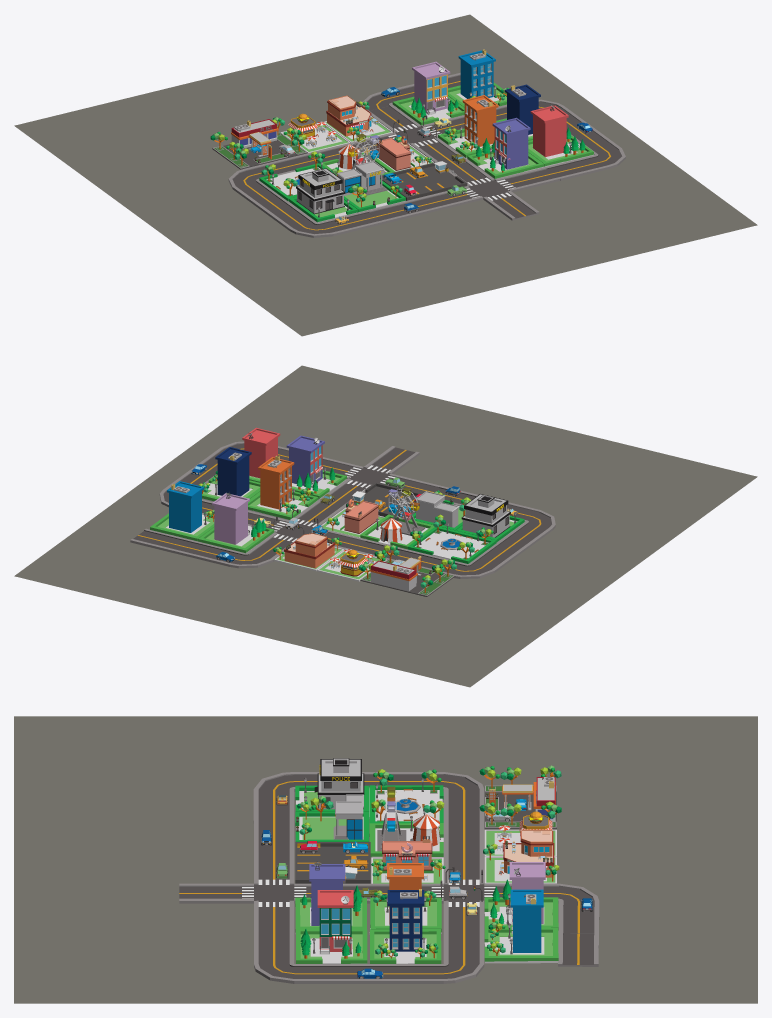
File: CityPackSyno.fbx
3 views of the same model, one above another, from view 1: azimuth 30°, elevation 25°; view 2: azimuth 150°, elevation 25°; view 3: azimuth 270°, elevation 25° (orthographic). The views are drawn at different scales.
Parts seen in each view (by area): view 1: Plane, Way(3).001, Fuel Station, Building(6), Building(3), Way(3), Building(5), Police, Bank, Building(2), Way(5).001, Building(1) (+12 smaller); view 2: Plane, Way(3).001, Fuel Station, Way(3), Building(2), Building(3), Building(1), Park, Building(6), Theme Park, Building(4), Police (+13 smaller); view 3: Plane, Way(3).001, Building(1), Way(3), Building(4), Building(5), Fuel Station, Way(5), Way(5).003, Bank, Park, Way(5).002 (+14 smaller).
Part boxes in pixels (x1,y1,x2,y2): Plane: (14,14,757,336); Way(3).001: (418,158,560,220); Fuel Station: (210,117,306,169); Building(6): (467,117,544,178); Building(3): (392,61,464,125); Way(3): (344,104,465,163); Building(5): (528,104,593,166); Police: (288,168,357,222); Bank: (336,161,405,212); Building(2): (438,95,498,158); Way(5).001: (261,201,383,237); Building(1): (448,49,508,107); Plane: (14,365,757,687); Way(3).001: (319,446,440,505); Fuel Station: (358,545,456,596); Way(3): (246,499,366,561); Building(2): (248,455,318,520); Building(3): (198,492,274,553); Building(1): (150,481,214,541); Park: (408,514,496,563); Building(6): (286,435,346,499); Theme Park: (360,487,434,549); Building(4): (198,447,260,501); Police: (456,494,524,542); Plane: (14,716,757,1003); Way(3).001: (179,852,368,933); Building(1): (484,889,558,963); Way(3): (369,852,558,933); Building(4): (369,889,441,963); Building(5): (296,890,367,963); Fuel Station: (479,765,561,829); Way(5): (369,932,484,983); Way(5).003: (254,932,368,983); Bank: (295,794,369,841); Park: (369,769,444,823); Way(5).002: (369,772,484,821).
Size of the model in its own units: 8567 by 815 by 9366.
